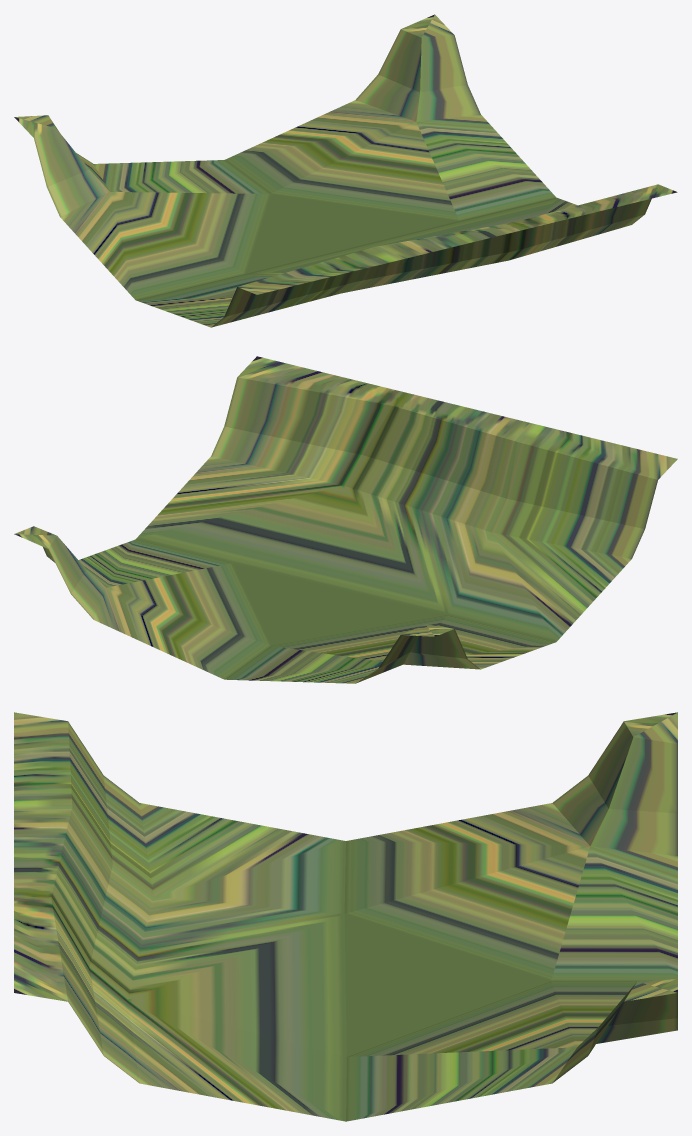
Rendered from Mesh_WaterTileRiverT.fbx.
3 views of the same model, one above another, from view 1: azimuth 30°, elevation 25°; view 2: azimuth 150°, elevation 25°; view 3: azimuth 270°, elevation 25° (orthographic). The views are drawn at different scales.
Parts seen in each view (by area): view 1: WaterTileRiverT; view 2: WaterTileRiverT; view 3: WaterTileRiverT.
Boxes of the visible parts, x1,y1,x2,y2 form: WaterTileRiverT: (14, 14, 677, 327); WaterTileRiverT: (14, 356, 677, 683); WaterTileRiverT: (14, 712, 677, 1121).
Bounding box in the file's own units: 10000 × 2140 × 10000.
